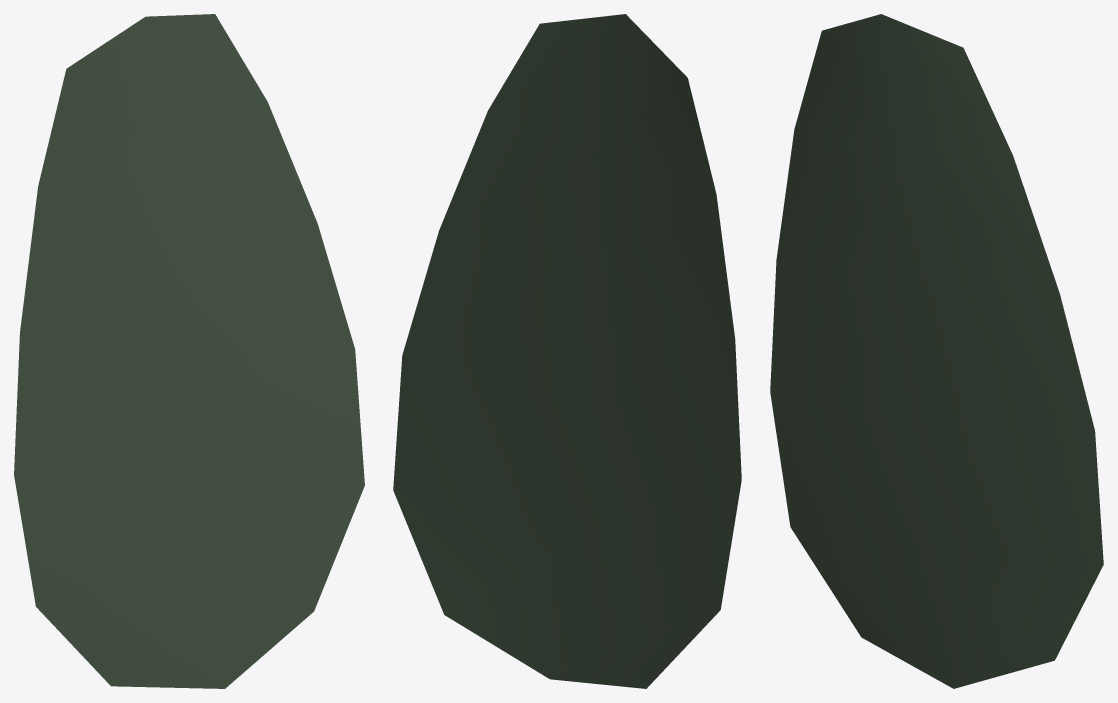
File: duck_feather_flight_tertiary_015.obj
3 renders of one model, left to right at view 1: azimuth 30°, elevation 25°; view 2: azimuth 150°, elevation 25°; view 3: azimuth 330°, elevation 25°, orthographic. The views are drawn at different scales.
Parts seen in each view (by area): view 1: feather_flight_tertiary_015; view 2: feather_flight_tertiary_015; view 3: feather_flight_tertiary_015.
Part boxes in pixels (<box>): feather_flight_tertiary_015: <box>14,14,364,688</box>; feather_flight_tertiary_015: <box>393,14,741,688</box>; feather_flight_tertiary_015: <box>770,14,1103,688</box>.
Bounding box in the file's own units: 0.0152 × 0.0285 × 0.000751.
